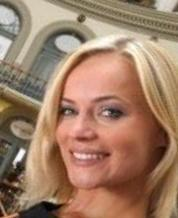face: (58, 96, 124, 167)
